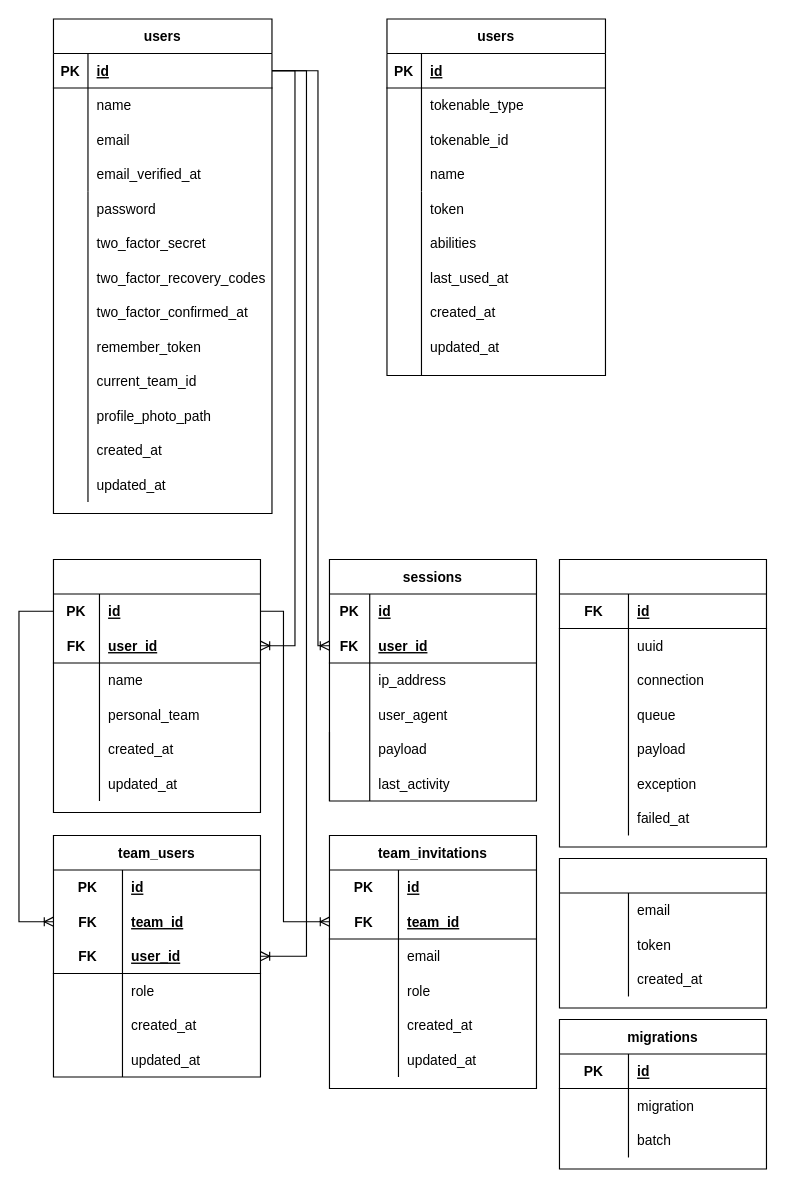
Some shapes in this 785 by 1188 pixel diagram are drawn without their labels. The box of each missing label's shape, as (x1, y1, x2, y2) in pixels:
failed_jobs: (558, 558, 766, 847)
password_resets: (558, 857, 766, 1008)
teams: (52, 558, 260, 812)
